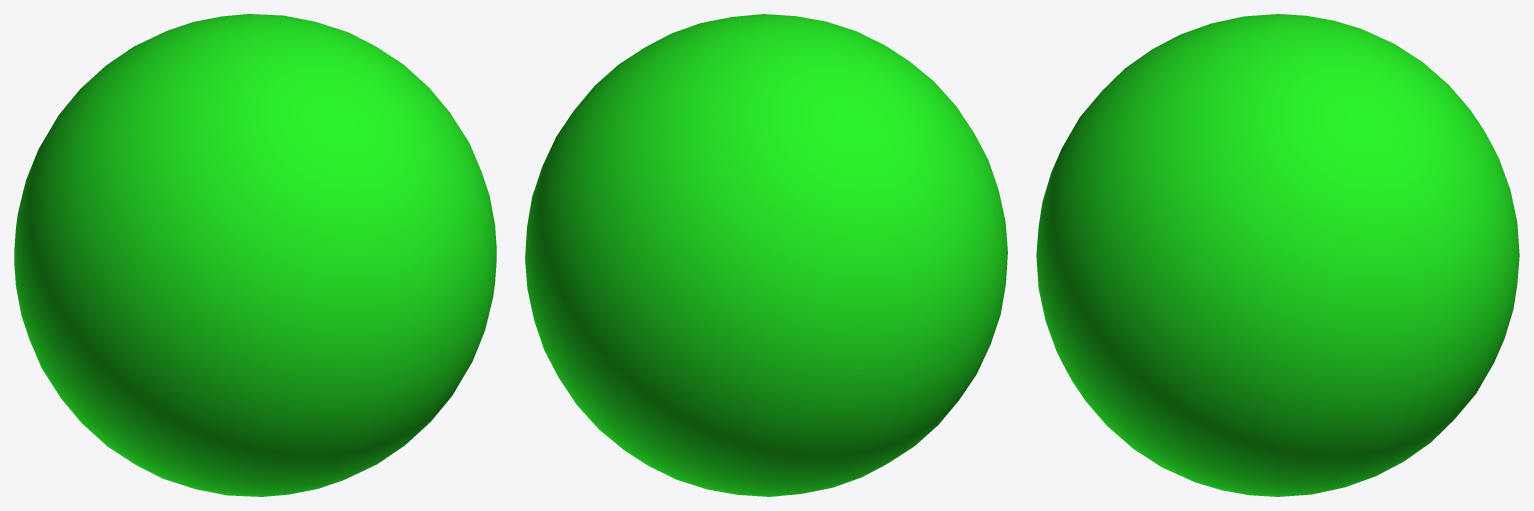
The model's file is chloride.obj.
3 renders of one model, left to right at view 1: azimuth 30°, elevation 25°; view 2: azimuth 150°, elevation 25°; view 3: azimuth 270°, elevation 25°, orthographic.
Visible parts, largest first — view 1: Cl1_Atom; view 2: Cl1_Atom; view 3: Cl1_Atom.
Boxes of the visible parts, x1,y1,x2,y2 form: Cl1_Atom: (14,14,496,496); Cl1_Atom: (525,14,1007,496); Cl1_Atom: (1036,14,1519,496).
Size of the model in its own units: 0.805 by 0.805 by 0.805.
